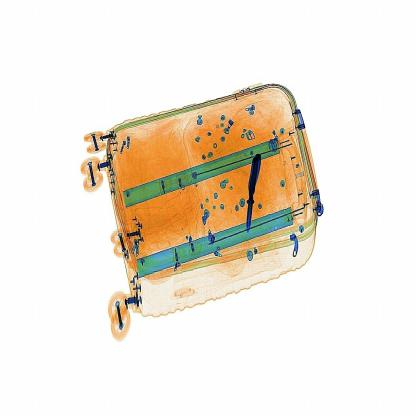gun: (236, 132, 268, 246)
